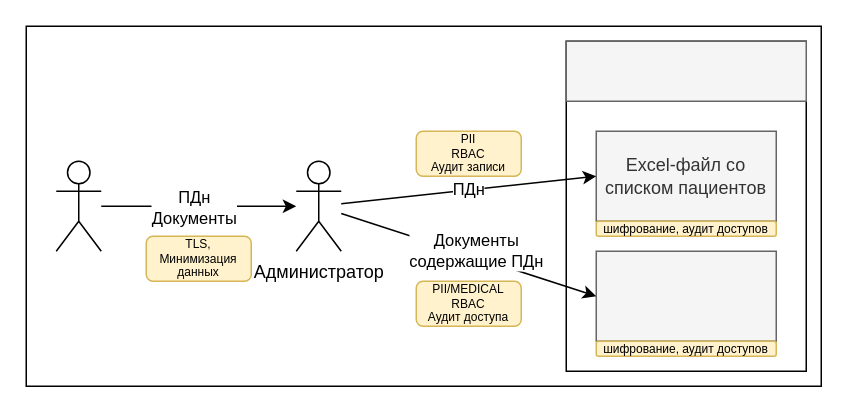
Some shapes in this 848 by 413 pixel diagram are drawn without their labels. The shapes that lost their labels are listed below. From the top down, each one's centre as x and y in pixels, then its label:
At point 685,70: "Pacients [папка]".
At point 78,205: "Пациент".
At point 685,295: "Файлы пациента в разных форматах".
